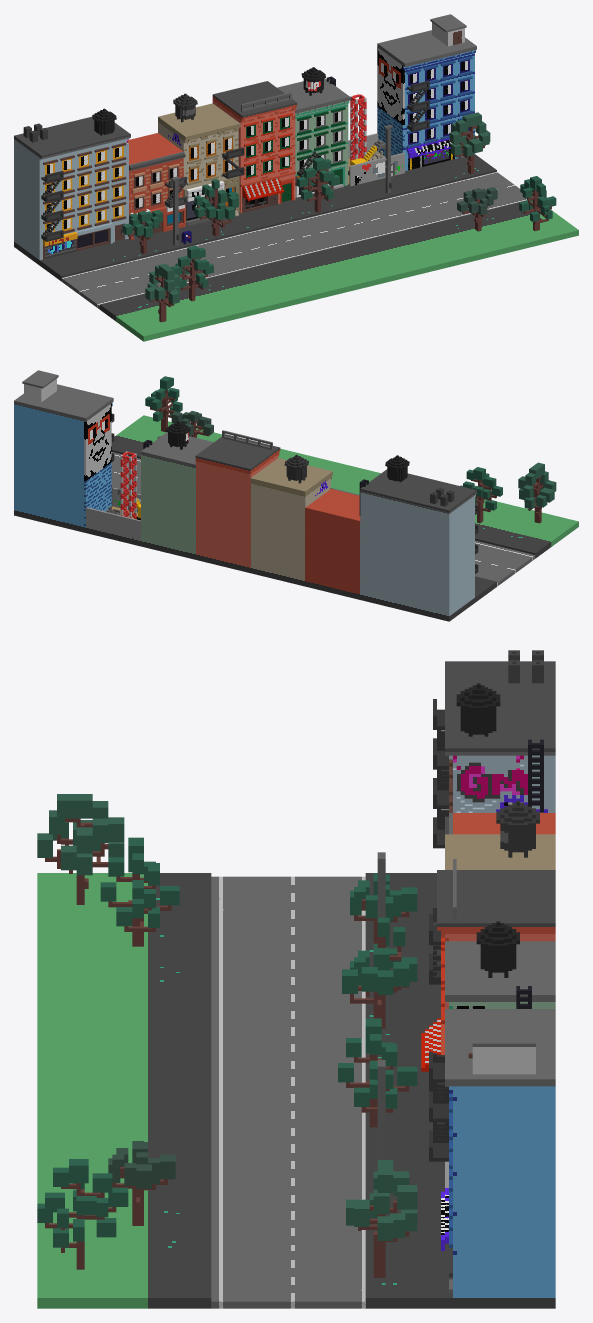
Rendered from nountoun.glb.
The picture shows the model from 3 angles, top to bottom: view 1: azimuth 30°, elevation 25°; view 2: azimuth 150°, elevation 25°; view 3: azimuth 270°, elevation 25°; orthographic projection. The views are drawn at different scales.
Parts seen in each view (by area): view 1: Union_142; view 2: Union_142; view 3: Union_142.
Part boxes in pixels (x1,y1,x2,y2): Union_142: (14, 14, 578, 341); Union_142: (14, 370, 578, 621); Union_142: (37, 650, 555, 1308).
Bounding box in the file's own units: 8.5 × 2.51 × 4.38.
1 material, 1 textured.
